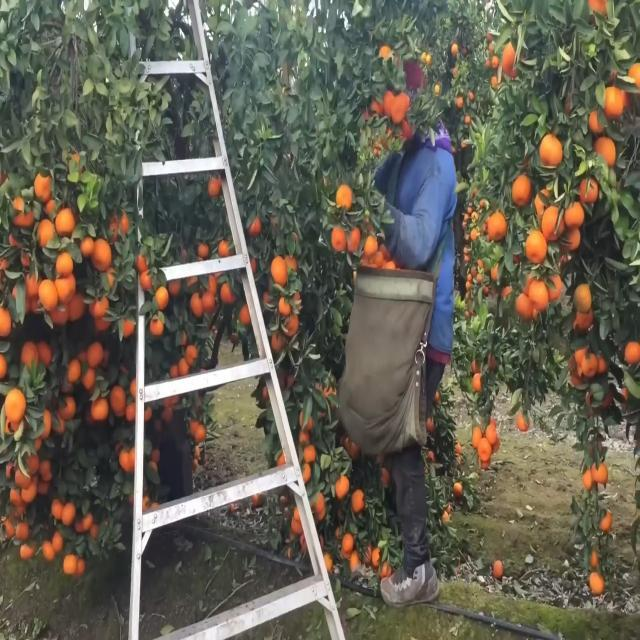Jeruk Sudah Matang: (532, 126, 566, 174), (599, 82, 630, 124), (590, 132, 620, 175), (524, 274, 554, 316), (4, 385, 28, 430), (508, 168, 534, 208), (53, 204, 80, 242), (540, 204, 566, 242), (88, 236, 114, 274), (50, 268, 77, 304), (524, 226, 548, 266), (38, 278, 62, 318), (576, 171, 602, 207), (562, 196, 588, 230), (572, 279, 596, 315), (19, 338, 42, 373), (34, 215, 56, 250), (268, 252, 288, 289), (33, 166, 53, 202), (328, 218, 348, 254), (64, 353, 85, 386), (54, 248, 76, 278), (488, 210, 508, 242), (110, 380, 126, 420), (186, 289, 206, 321), (150, 283, 172, 309), (46, 496, 66, 524), (332, 180, 352, 208), (118, 443, 136, 474), (351, 486, 369, 516), (62, 552, 81, 580), (89, 396, 108, 423), (0, 306, 15, 340), (475, 434, 493, 462), (58, 499, 76, 526), (216, 282, 236, 306), (198, 286, 216, 312), (334, 474, 352, 500), (622, 337, 640, 362), (86, 340, 103, 366), (185, 340, 199, 370), (206, 175, 222, 200), (150, 314, 166, 339)
